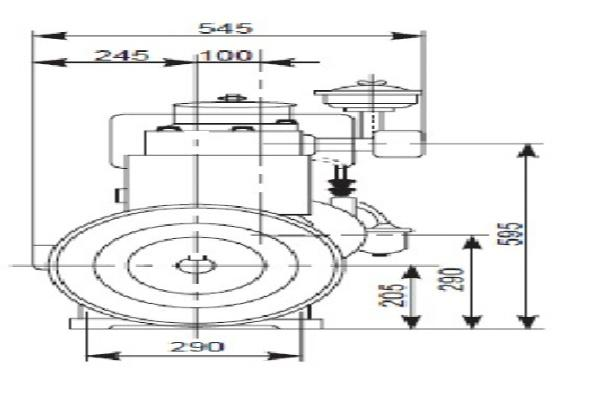dimensions: (196, 43, 257, 65), (90, 45, 153, 65), (493, 214, 526, 252), (372, 278, 408, 312), (435, 261, 468, 296), (166, 336, 230, 354), (198, 19, 255, 36)
